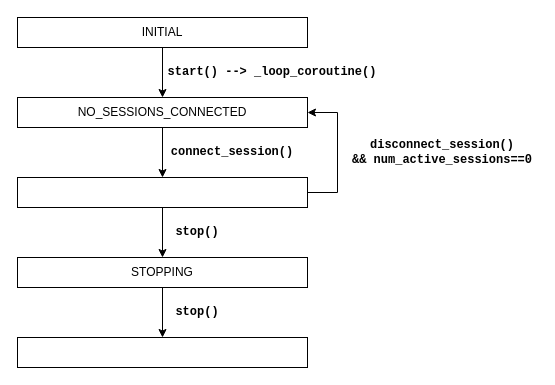
This 555x385 diagram has some shape labels left out. Here are the shapes that lost their labels. From the top down, the centre of each, then its label:
point (162, 192): ONE_OR_MORE_SESSIONS_CONNECTED
point (162, 352): STOPPED
